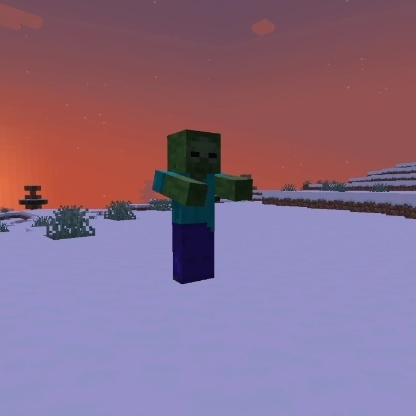zombie: (147, 127, 257, 290)
